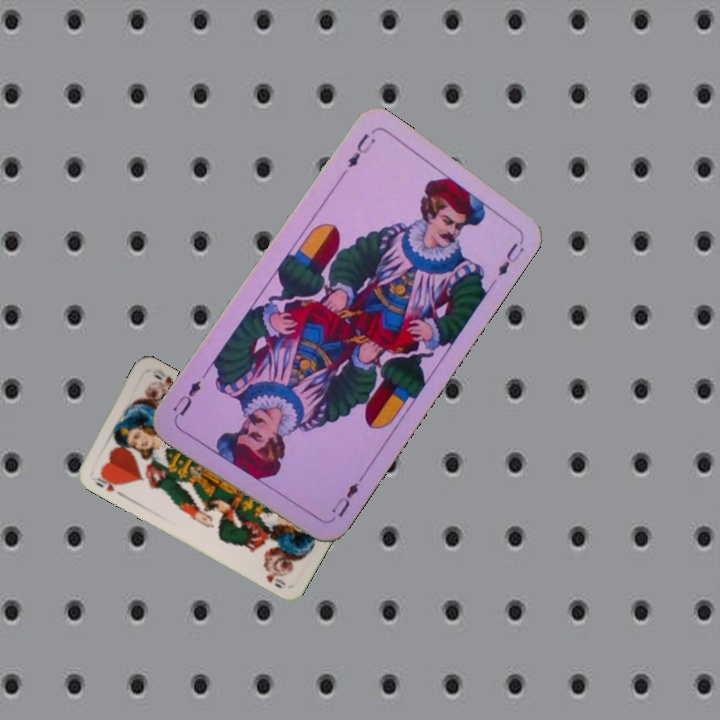EU: (336, 129, 378, 181), (325, 473, 364, 525)
HO: (92, 470, 124, 494)
